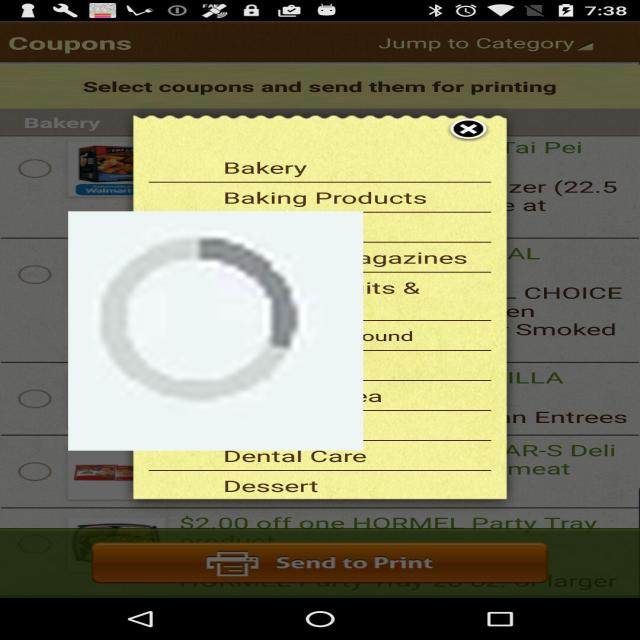misdirection: (68, 211, 363, 451)
